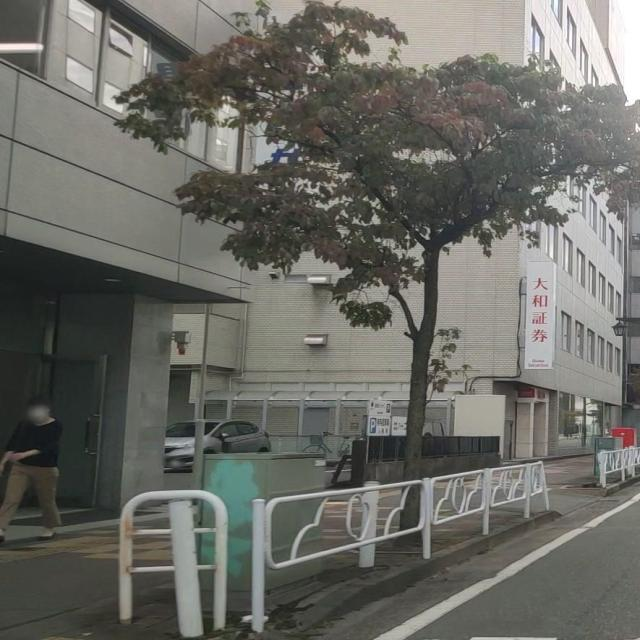dogwood: (110, 0, 640, 546)
